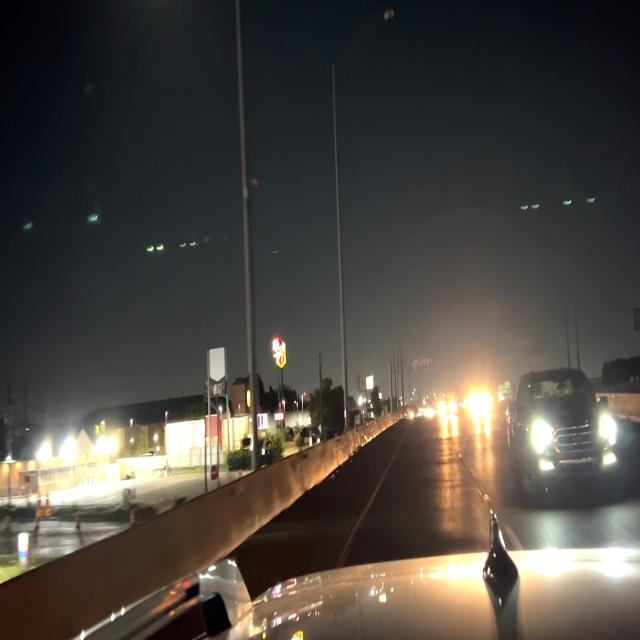back-of-sign: (410, 352, 436, 376)
